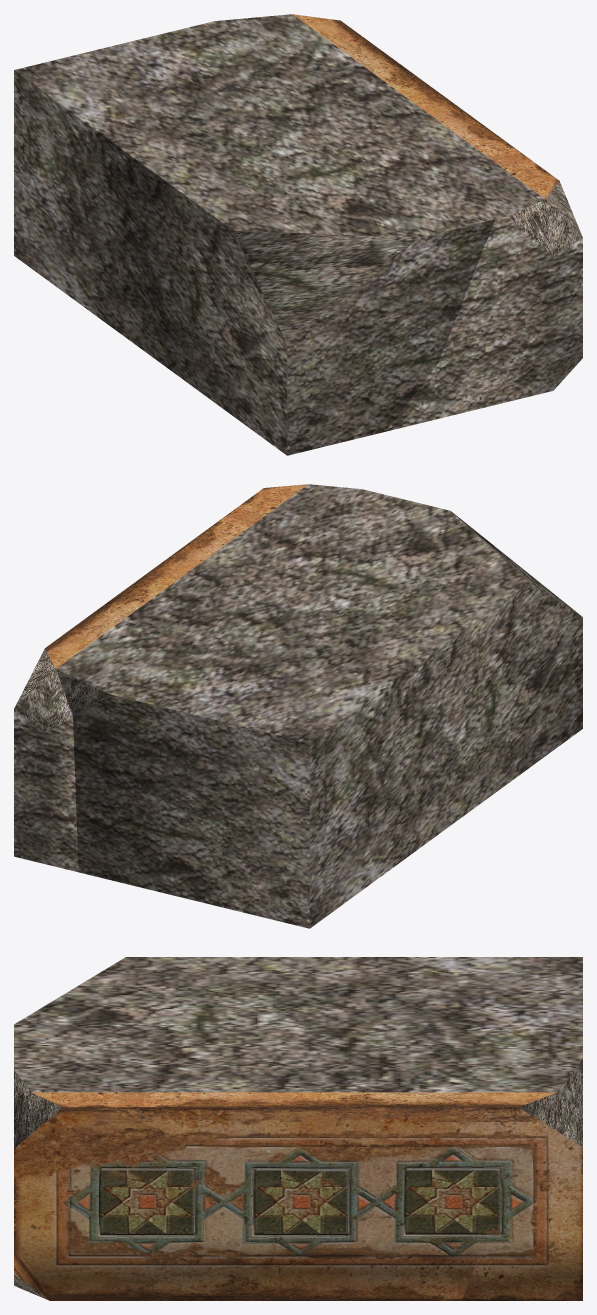
The model's file is OBJEventBlock.gltf.
The picture shows the model from 3 angles, top to bottom: view 1: azimuth 30°, elevation 25°; view 2: azimuth 150°, elevation 25°; view 3: azimuth 270°, elevation 25°; orthographic projection. The views are drawn at different scales.
Parts seen in each view (by area): view 1: EventBlock1, EventBlock2; view 2: EventBlock1, EventBlock3; view 3: EventBlock1, EventBlock2, EventBlock3.
Boxes of the visible parts, bbox=[...] form: EventBlock1: bbox=[14, 14, 550, 455]; EventBlock2: bbox=[386, 174, 582, 431]; EventBlock1: bbox=[45, 484, 582, 928]; EventBlock3: bbox=[14, 648, 78, 872]; EventBlock1: bbox=[14, 957, 582, 1300]; EventBlock2: bbox=[14, 1070, 154, 1300]; EventBlock3: bbox=[462, 1087, 582, 1300].
Size of the model in its own units: 5 by 3 by 8.
Materials: 3 (3 with a texture image).
